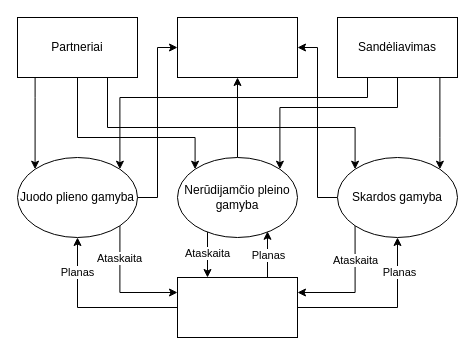
Image size: 475x355. Some labels were removed from this diagram. Here are the shapes that lost their labels. From the top down, the centre of each, then its label:
point (237, 47): Vartotojai
point (237, 307): Buhalterija
